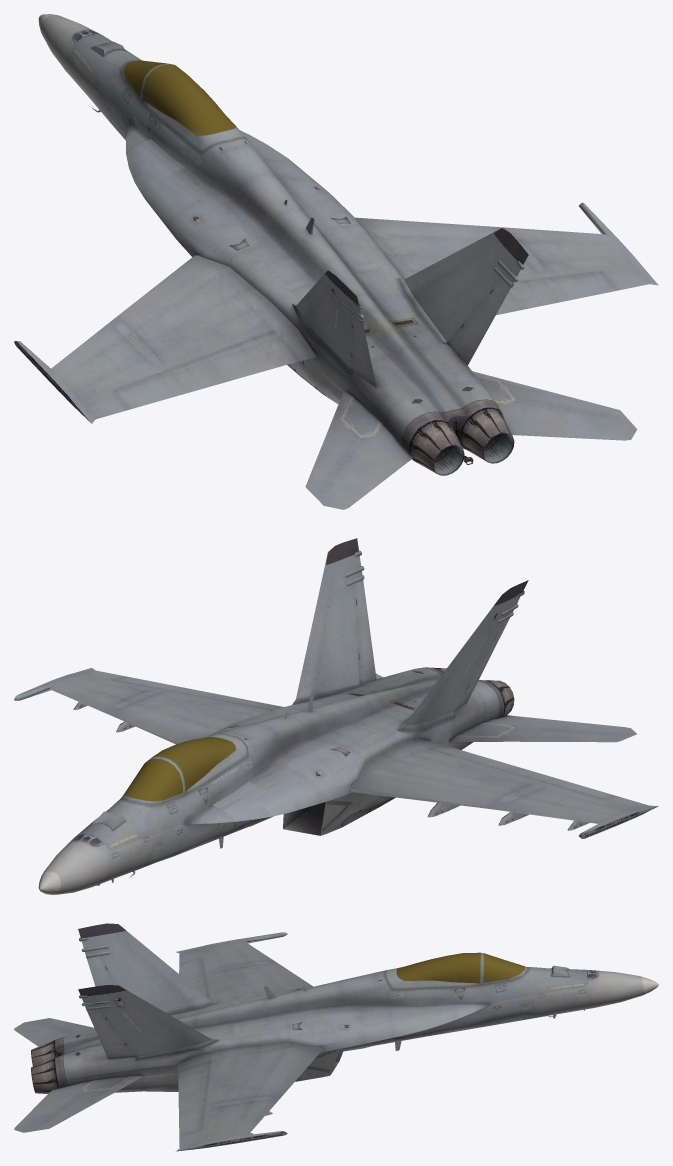
3 views of the same model, one above another, from view 1: azimuth 30°, elevation 25°; view 2: azimuth 150°, elevation 25°; view 3: azimuth 270°, elevation 25° (orthographic). The views are drawn at different scales.
Visible parts, largest first — view 1: LOD0, ElevatorL01, ElevatorR01, FlapL01, Glass_Canopy01, VoletL01, EngineL01, EngineR01, RudderR01, VoletR01, AileronL01, AileronR01 (+3 smaller); view 2: LOD0, ElevatorL01, VoletL01, Glass_Canopy01, VoletR01, Glass, RudderR01, Canopy01, FlapL01, FlapR01, RudderL01; view 3: LOD0, ElevatorR01, Glass_Canopy01, VoletR01, FlapR01, ElevatorL01, RudderR01, Canopy01, Glass, EngineR01, VoletL01, AileronR01 (+3 smaller).
Part boxes in pixels (<box>): LOD0: <box>14,14,658,460</box>; ElevatorL01: <box>305,390,412,509</box>; ElevatorR01: <box>472,371,637,440</box>; FlapL01: <box>169,330,295,393</box>; Glass_Canopy01: <box>142,64,235,135</box>; VoletL01: <box>116,255,219,329</box>; EngineL01: <box>408,419,464,475</box>; EngineR01: <box>459,407,514,463</box>; RudderR01: <box>447,279,510,365</box>; VoletR01: <box>355,217,496,238</box>; AileronL01: <box>113,370,186,409</box>; AileronR01: <box>542,271,616,302</box>; LOD0: <box>14,538,658,894</box>; ElevatorL01: <box>448,715,636,742</box>; VoletL01: <box>350,769,505,808</box>; Glass_Canopy01: <box>152,737,235,791</box>; VoletR01: <box>115,704,217,744</box>; Glass: <box>124,758,182,801</box>; RudderR01: <box>355,581,376,683</box>; Canopy01: <box>151,734,247,794</box>; FlapL01: <box>429,747,558,781</box>; FlapR01: <box>169,688,283,710</box>; RudderL01: <box>455,617,509,710</box>; LOD0: <box>55,923,658,1151</box>; ElevatorR01: <box>14,1075,144,1132</box>; Glass_Canopy01: <box>396,952,480,983</box>; VoletR01: <box>256,1045,323,1096</box>; FlapR01: <box>178,1061,210,1113</box>; ElevatorL01: <box>14,1018,94,1046</box>; RudderR01: <box>87,1009,135,1058</box>; Canopy01: <box>385,953,482,990</box>; Glass: <box>483,953,524,982</box>; EngineR01: <box>31,1058,59,1093</box>; VoletL01: <box>257,963,313,989</box>; AileronR01: <box>179,1106,204,1135</box>.
Bounding box in the file's own units: 13.57 × 4.29 × 18.54.
Materials: 4 (3 with a texture image).
